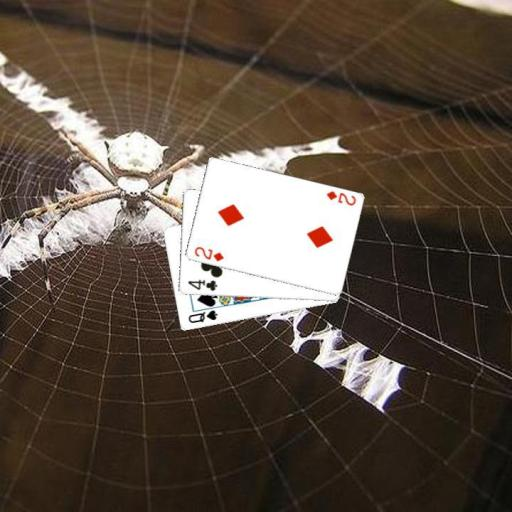2D: (191, 243, 225, 263), (323, 188, 357, 207)
4C: (184, 277, 218, 292)
QS: (185, 307, 219, 325)
